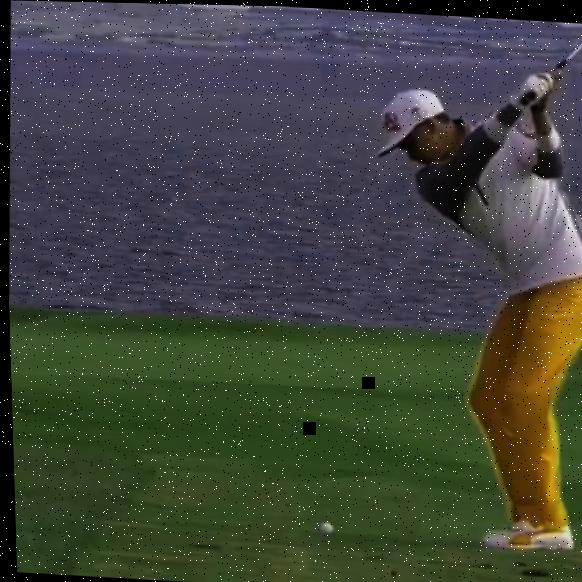GolfBall: (316, 521, 328, 533)
